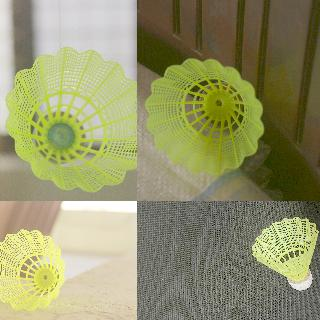shuttlecock: (5, 46, 136, 193), (145, 59, 263, 175), (0, 229, 65, 311), (252, 217, 318, 290)
